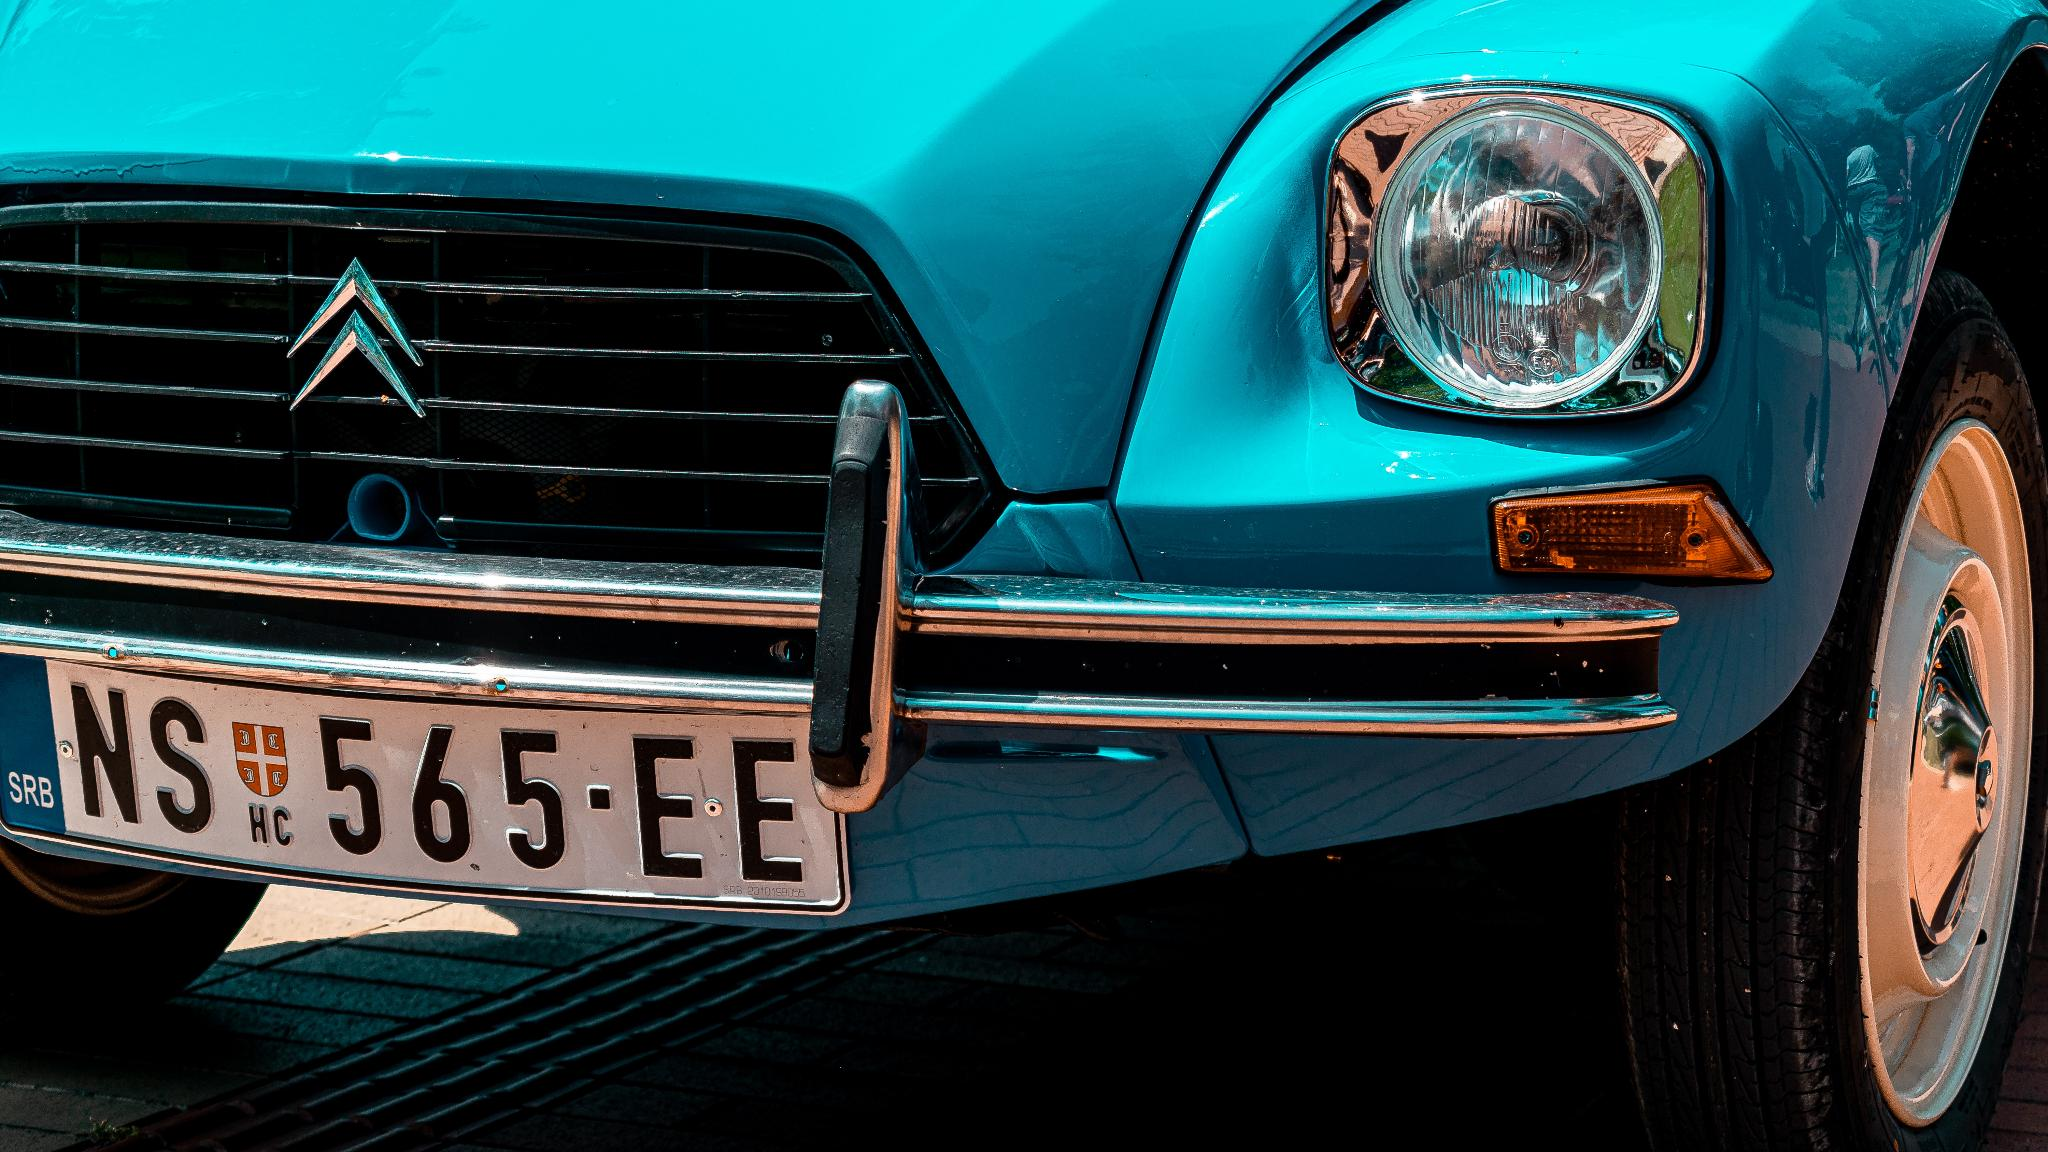Citroen: (255, 231, 459, 452)
